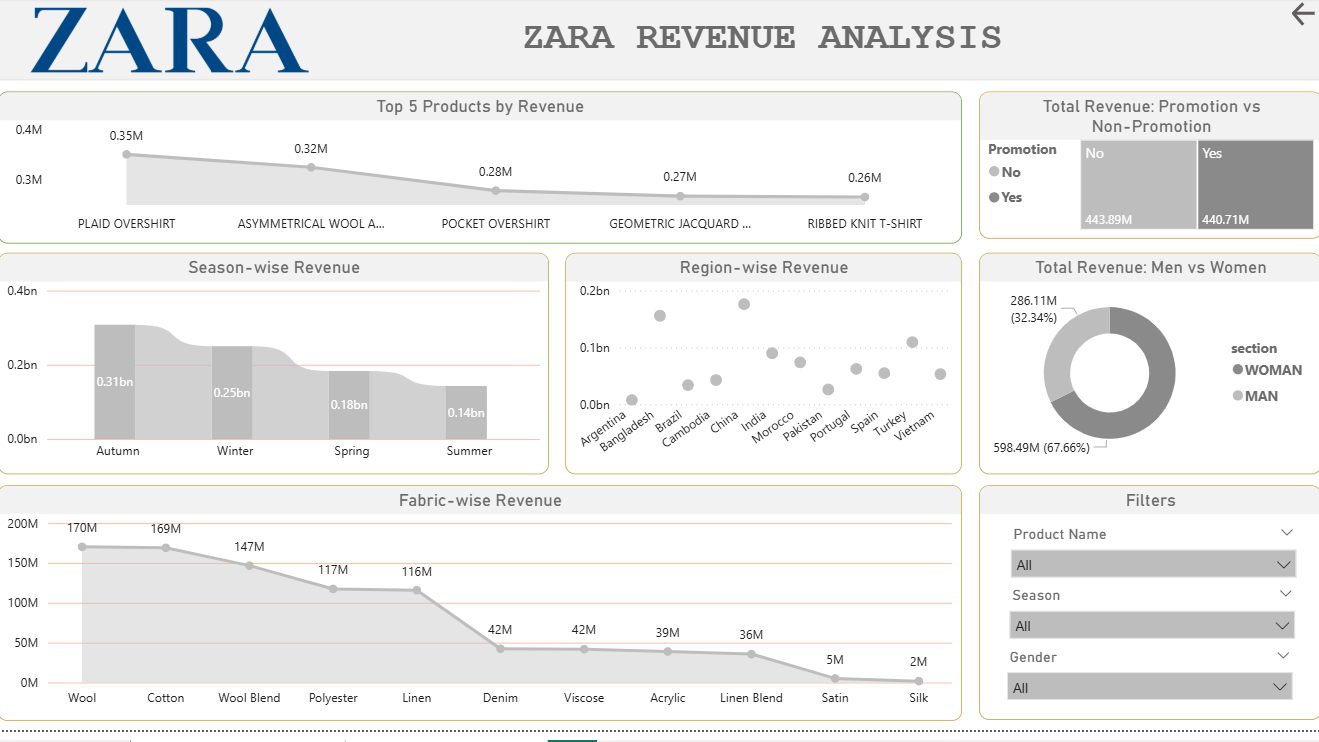

Layout of this report page (visuals, bound fields, positions):
{"tool":"powerbi","page":{"name":"Zara Revenue Analysis","canvas":[1320,720],"ordinal":1},"visuals":[{"type":"donutChart","title":"Total Revenue: Men vs Women","fields":{"Category":["Zara_sales_EDA.section"],"Y":["Sum(Zara_sales_EDA.Total Revenue)"]},"box":[973.4,253.1,335.1,216.4],"z":0},{"type":"treemap","title":"Total Revenue: Promotion vs Non-Promotion","fields":{"Group":["Zara_sales_EDA.Promotion"],"Values":["Sum(Zara_sales_EDA.Total Revenue)"]},"box":[973.4,95.4,336.3,144.3],"z":1000},{"type":"areaChart","title":"Top 5 Products by Revenue","fields":{"Category":["Zara_sales_EDA.name"],"Y":["Sum(Zara_sales_EDA.Total Revenue)"]},"box":[13.5,95.4,942.8,149.2],"z":2000},{"type":"textbox","title":"Filters","box":[973.4,480.6,335.1,229.9],"z":3000},{"type":"slicer","fields":{"Values":["Zara_sales_EDA.name"]},"box":[994.2,514.8,299.6,59.9],"z":4000},{"type":"slicer","fields":{"Values":["Zara_sales_EDA.season"]},"box":[992.9,574.7,299.6,59.9],"z":5000},{"type":"slicer","fields":{"Values":["Zara_sales_EDA.section"]},"box":[990.5,634.7,299.6,59.9],"z":6000},{"type":"ribbonChart","title":"Season-wise Revenue","fields":{"Category":["Zara_sales_EDA.season"],"Y":["Sum(Zara_sales_EDA.Total Revenue)"]},"box":[13.5,253.1,539.3,216.4],"z":7000},{"type":"lineChart","title":"Fabric-wise Revenue","fields":{"Category":["Zara_sales_EDA.material"],"Y":["Sum(Zara_sales_EDA.Total Revenue)"]},"box":[13,481,943,230],"z":8000},{"type":"scatterChart","title":"Region-wise Revenue","fields":{"X":["Zara_sales_EDA.origin"],"Y":["Sum(Zara_sales_EDA.Total Revenue)"]},"box":[568.6,253.1,387.6,216.4],"z":9000},{"type":"shape","box":[13.5,6.1,1295,78.3],"z":10000},{"type":"image","box":[0,13.5,363.2,63.6],"z":11000},{"type":"textbox","box":[406,17.1,710.5,52.6],"z":12000},{"type":"actionButton","box":[1275.4,3.7,37.9,31.8],"z":13000}]}

Visuals, with their boxes on the page's 1320x720 design canvas (x1, y1, x2, y2). These are canvas units, not pixel positions in the 1319x742 screenshot, which may show the page scaled, cropped or inside an application window:
"Total Revenue: Men vs Women" donutChart: locate(973, 253, 1308, 470)
"Total Revenue: Promotion vs Non-Promotion" treemap: locate(973, 95, 1310, 240)
"Top 5 Products by Revenue" areaChart: locate(14, 95, 956, 245)
"Filters" textbox: locate(973, 481, 1308, 710)
slicer - Zara_sales_EDA.name: locate(994, 515, 1294, 575)
slicer - Zara_sales_EDA.season: locate(993, 575, 1292, 635)
slicer - Zara_sales_EDA.section: locate(990, 635, 1290, 695)
"Season-wise Revenue" ribbonChart: locate(14, 253, 553, 470)
"Fabric-wise Revenue" lineChart: locate(13, 481, 956, 711)
"Region-wise Revenue" scatterChart: locate(569, 253, 956, 470)
shape: locate(14, 6, 1308, 84)
image: locate(0, 14, 363, 77)
textbox: locate(406, 17, 1116, 70)
actionButton: locate(1275, 4, 1313, 36)
